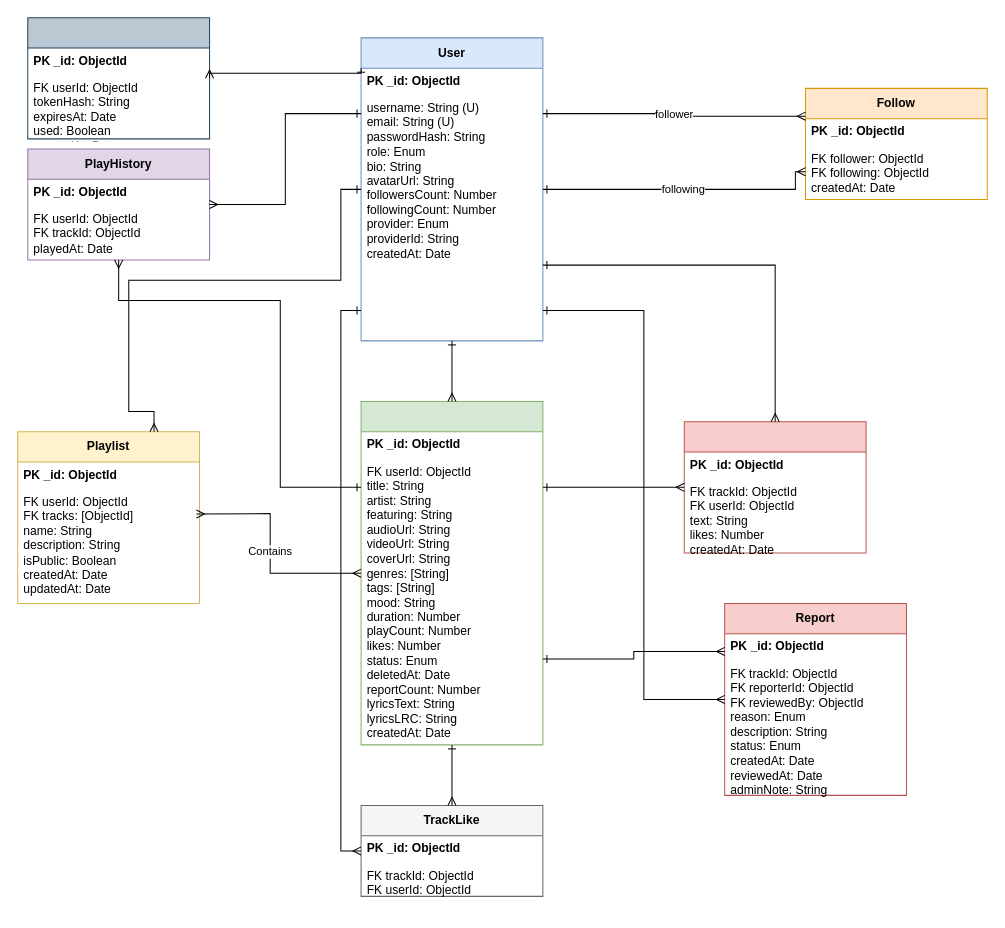
Some shapes in this 1005 by 928 pixel diagram are drawn without their labels. The shapes that lost their labels are listed below. From the top down, each one's box as (x1, y1, x2, y2) in pixels, then its label:
(27, 17, 210, 139): PasswordReset
(683, 421, 866, 553): Comment
(360, 400, 543, 745): Track
